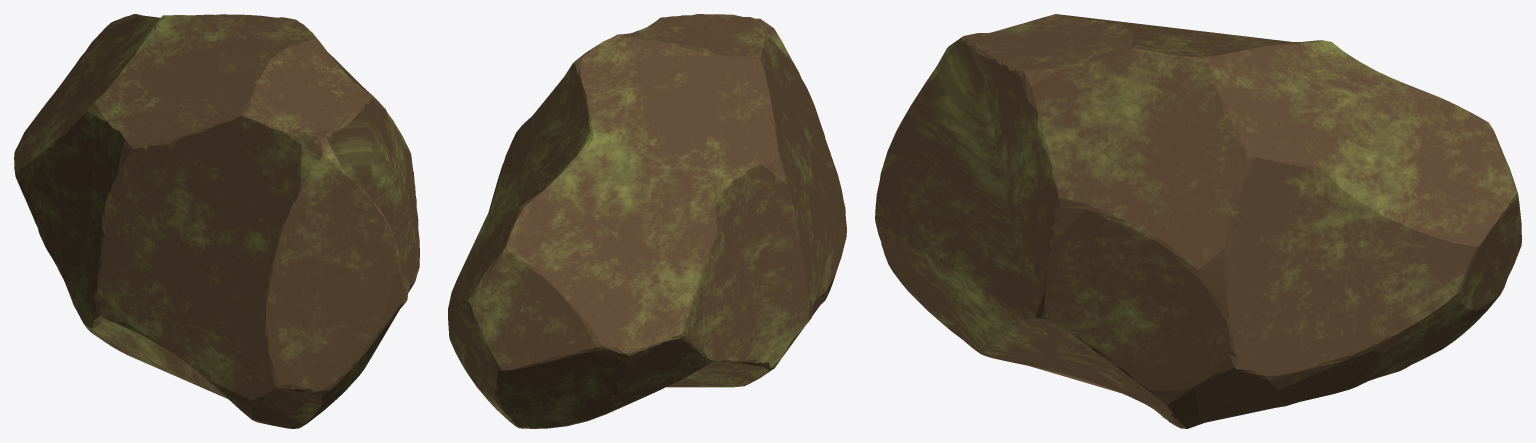
Rendered from Rock1.fbx.
3 renders of one model, left to right at view 1: azimuth 30°, elevation 25°; view 2: azimuth 150°, elevation 25°; view 3: azimuth 270°, elevation 25°, orthographic. The views are drawn at different scales.
Visible parts, largest first — view 1: Rock8; view 2: Rock8; view 3: Rock8.
Boxes of the visible parts, box(x1,y1,x2,y2) form: Rock8: box(14, 14, 419, 428); Rock8: box(448, 14, 846, 428); Rock8: box(875, 14, 1521, 428).
Size of the model in its own units: 157 by 164 by 256.
1 material, 1 textured.
